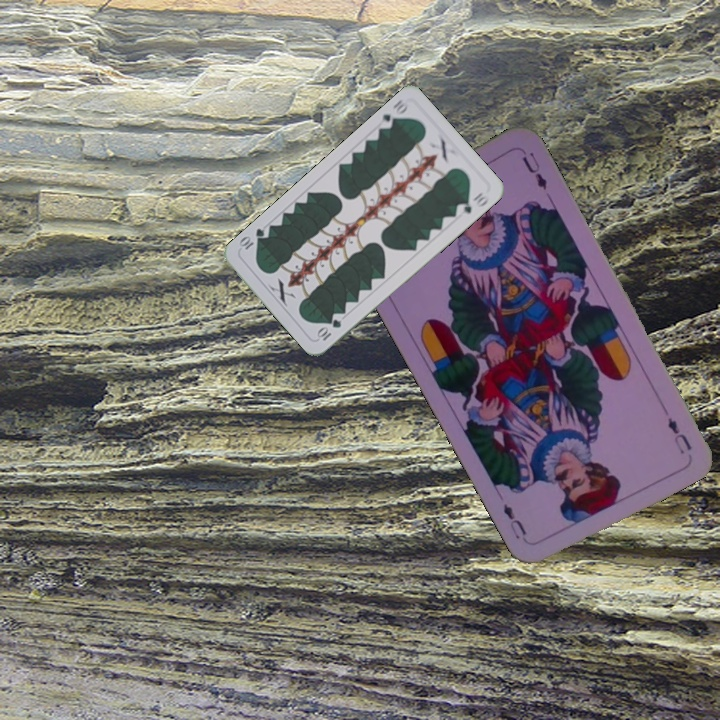EU: (663, 413, 694, 457)
G10: (375, 95, 412, 132), (313, 315, 344, 343)
